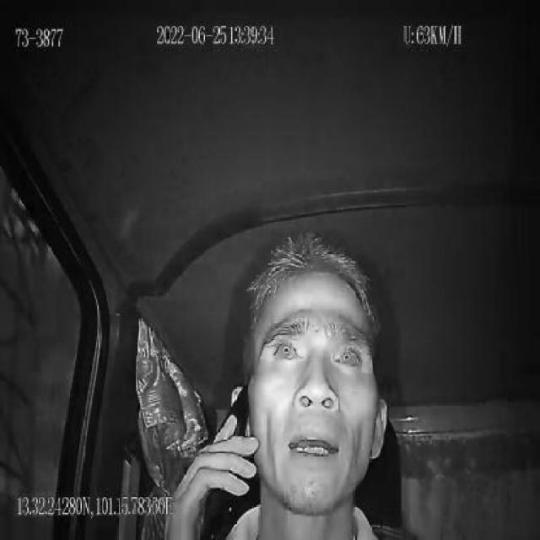phone: (200, 379, 250, 537)
